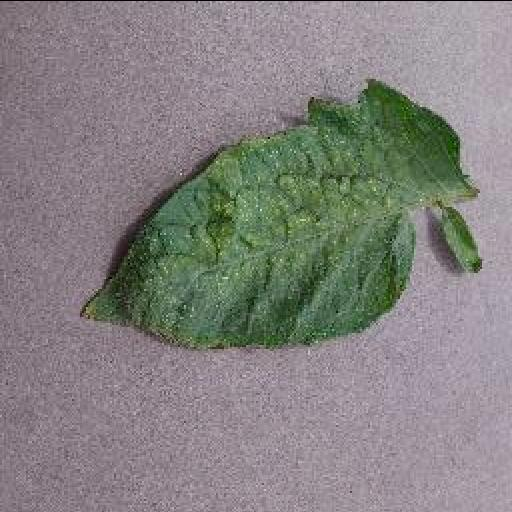disease_tomato: (74, 78, 480, 350)
